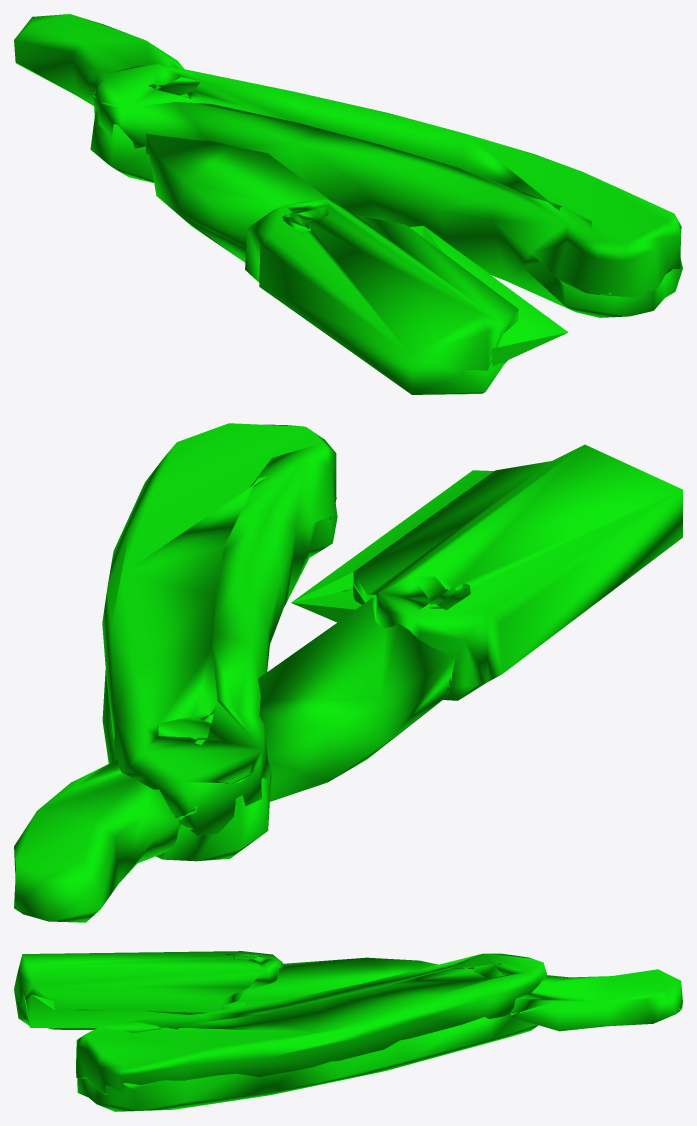
The model's file is wbready-cutthroat.fbx.
3 renders of one model, top to bottom at view 1: azimuth 30°, elevation 25°; view 2: azimuth 150°, elevation 25°; view 3: azimuth 270°, elevation 25°, orthographic. The views are drawn at different scales.
Visible parts, largest first — view 1: UTM_FireGeo; view 2: UTM_FireGeo; view 3: UTM_FireGeo.
Boxes of the visible parts, box(x1,y1,x2,y2) form: UTM_FireGeo: box(14, 14, 682, 394); UTM_FireGeo: box(14, 423, 682, 922); UTM_FireGeo: box(14, 951, 682, 1111).
Size of what is drawn, in the model's own units: 14.49 by 3.52 by 33.17.
